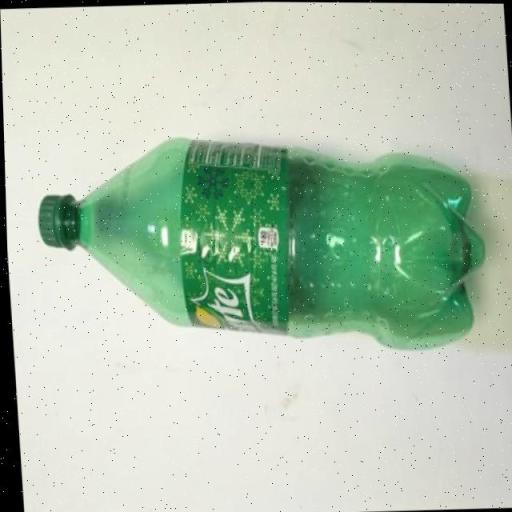plastic: (31, 124, 488, 362)
